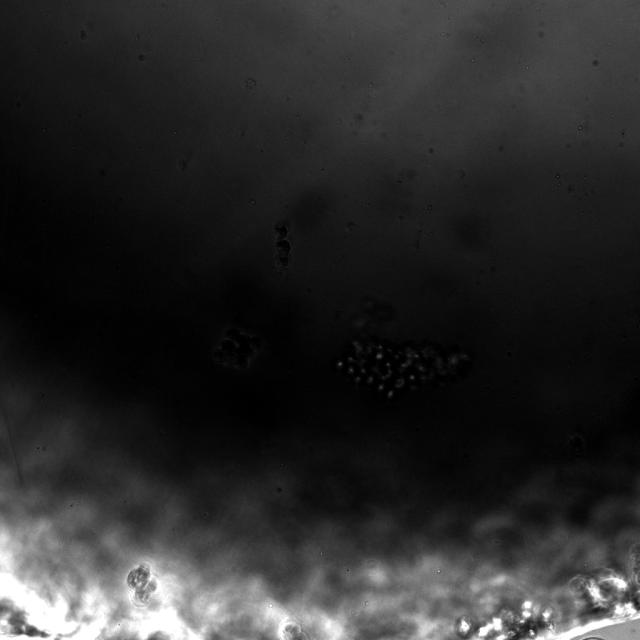organoid: (334, 336, 470, 400), (214, 328, 261, 369), (273, 223, 291, 271)
